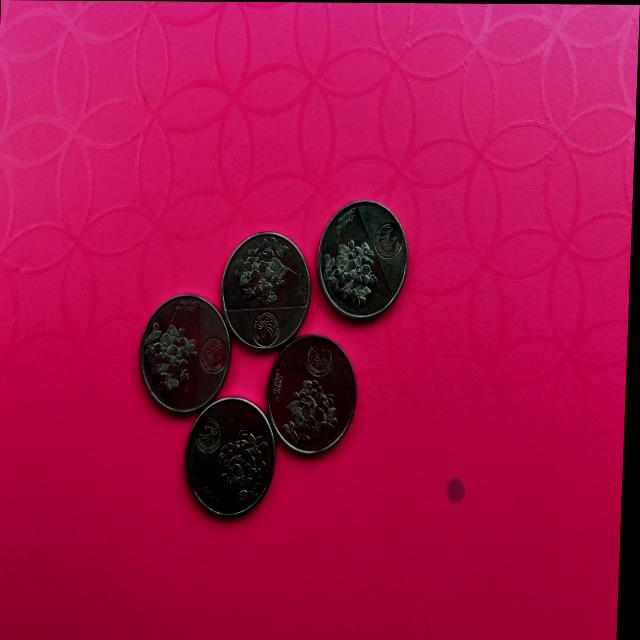1_New_Back: (309, 243, 387, 313), (278, 375, 351, 446), (235, 238, 307, 308), (145, 314, 201, 400), (222, 419, 274, 510)
